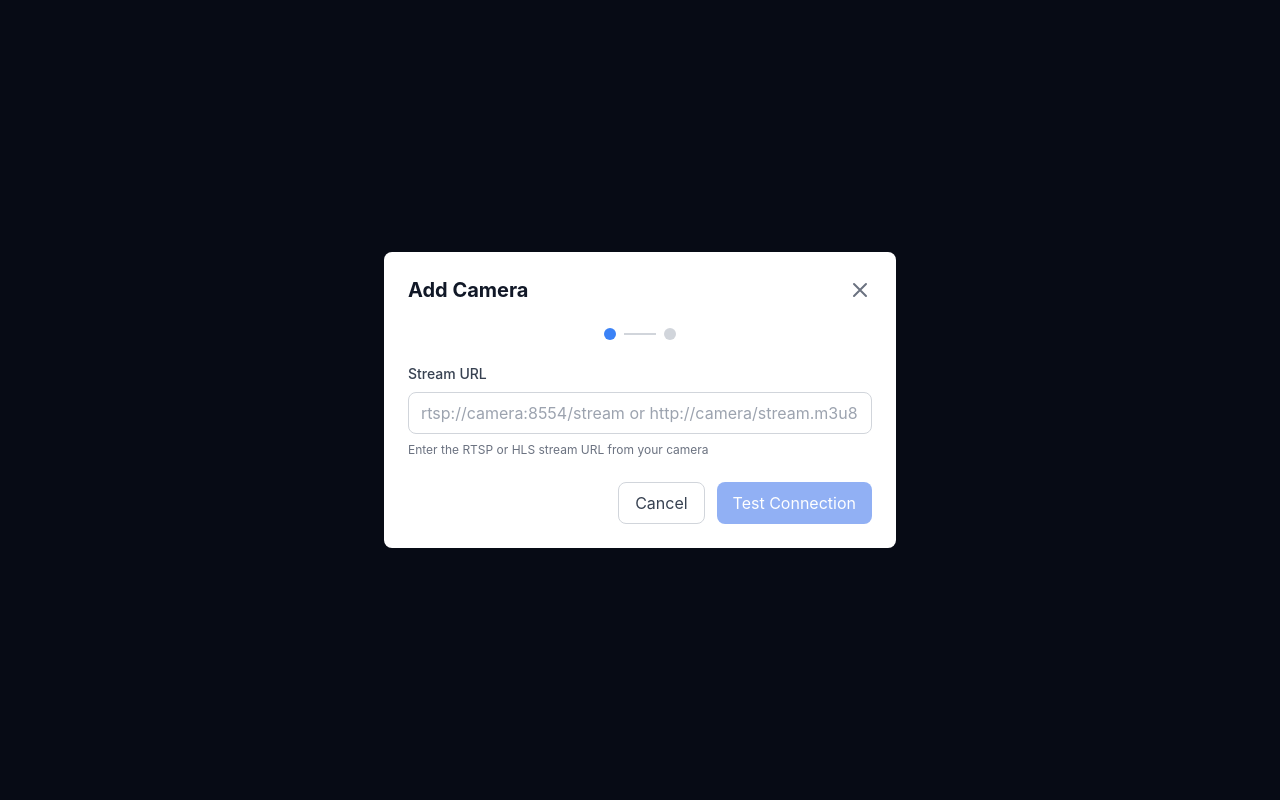
Test: AddCameraModal › should advance to details step when stream test succeeds
The image size is (1280, 800).
Type "rtsp://test:8554/stream" into the field with placeholder "rtsp://camera:8554/stream or http://camera/stream.m3u8" at (640, 413), box [408,392,872,434]
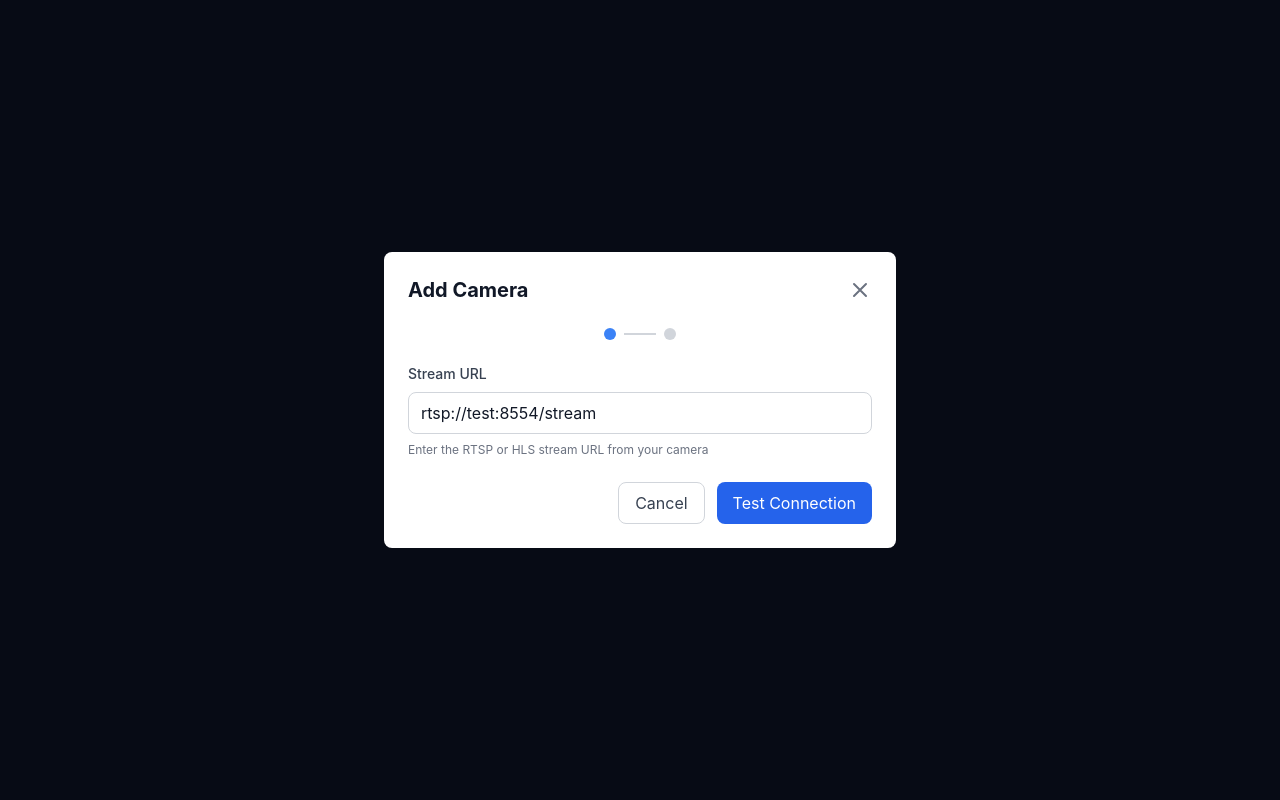
Click the button "Test Connection" at (794, 503), box [717,482,872,524]
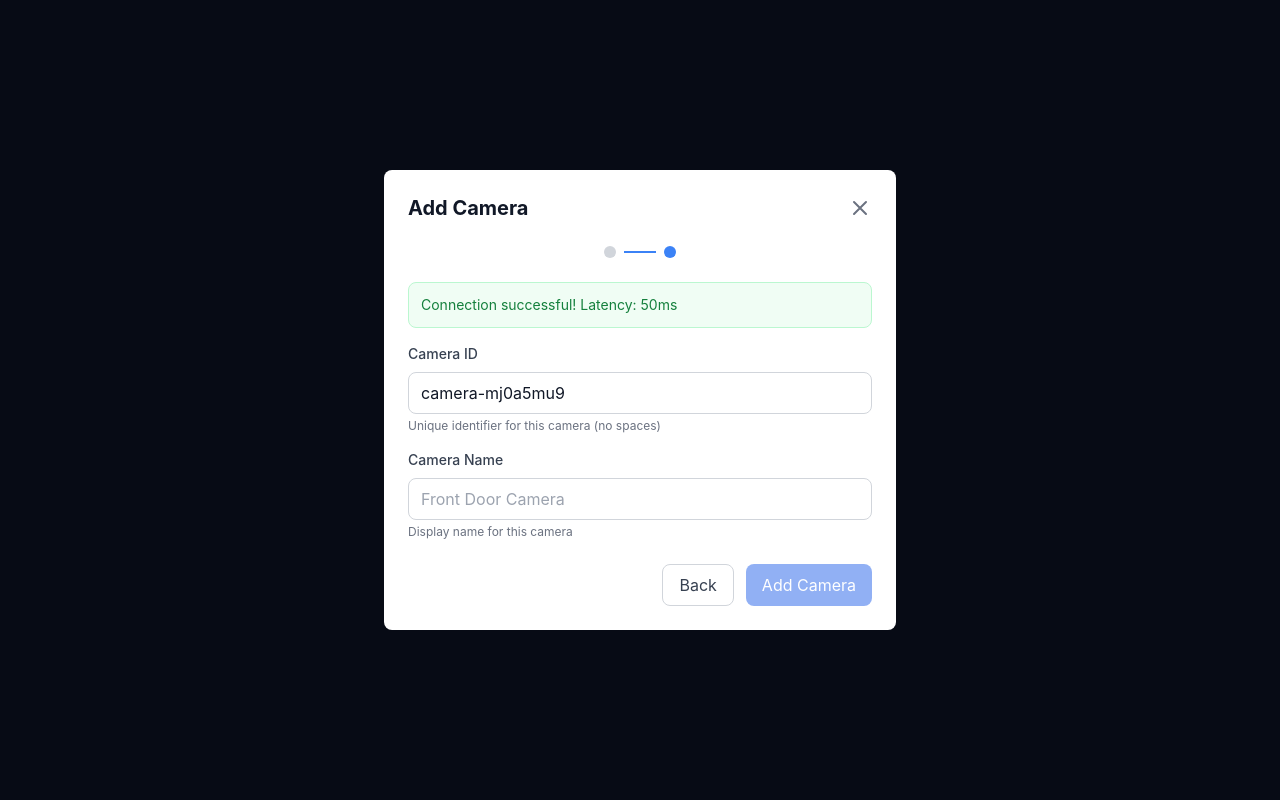
Expected: the text "Camera ID" is shown, [408,345,478,362]
Expected: the text "Camera Name" is shown, [408,451,503,468]
